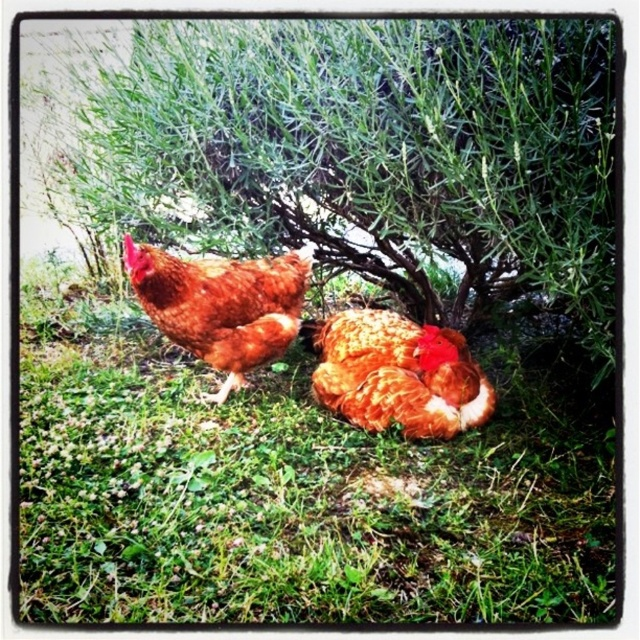Chicken: (124, 234, 314, 407), (298, 302, 495, 439)
